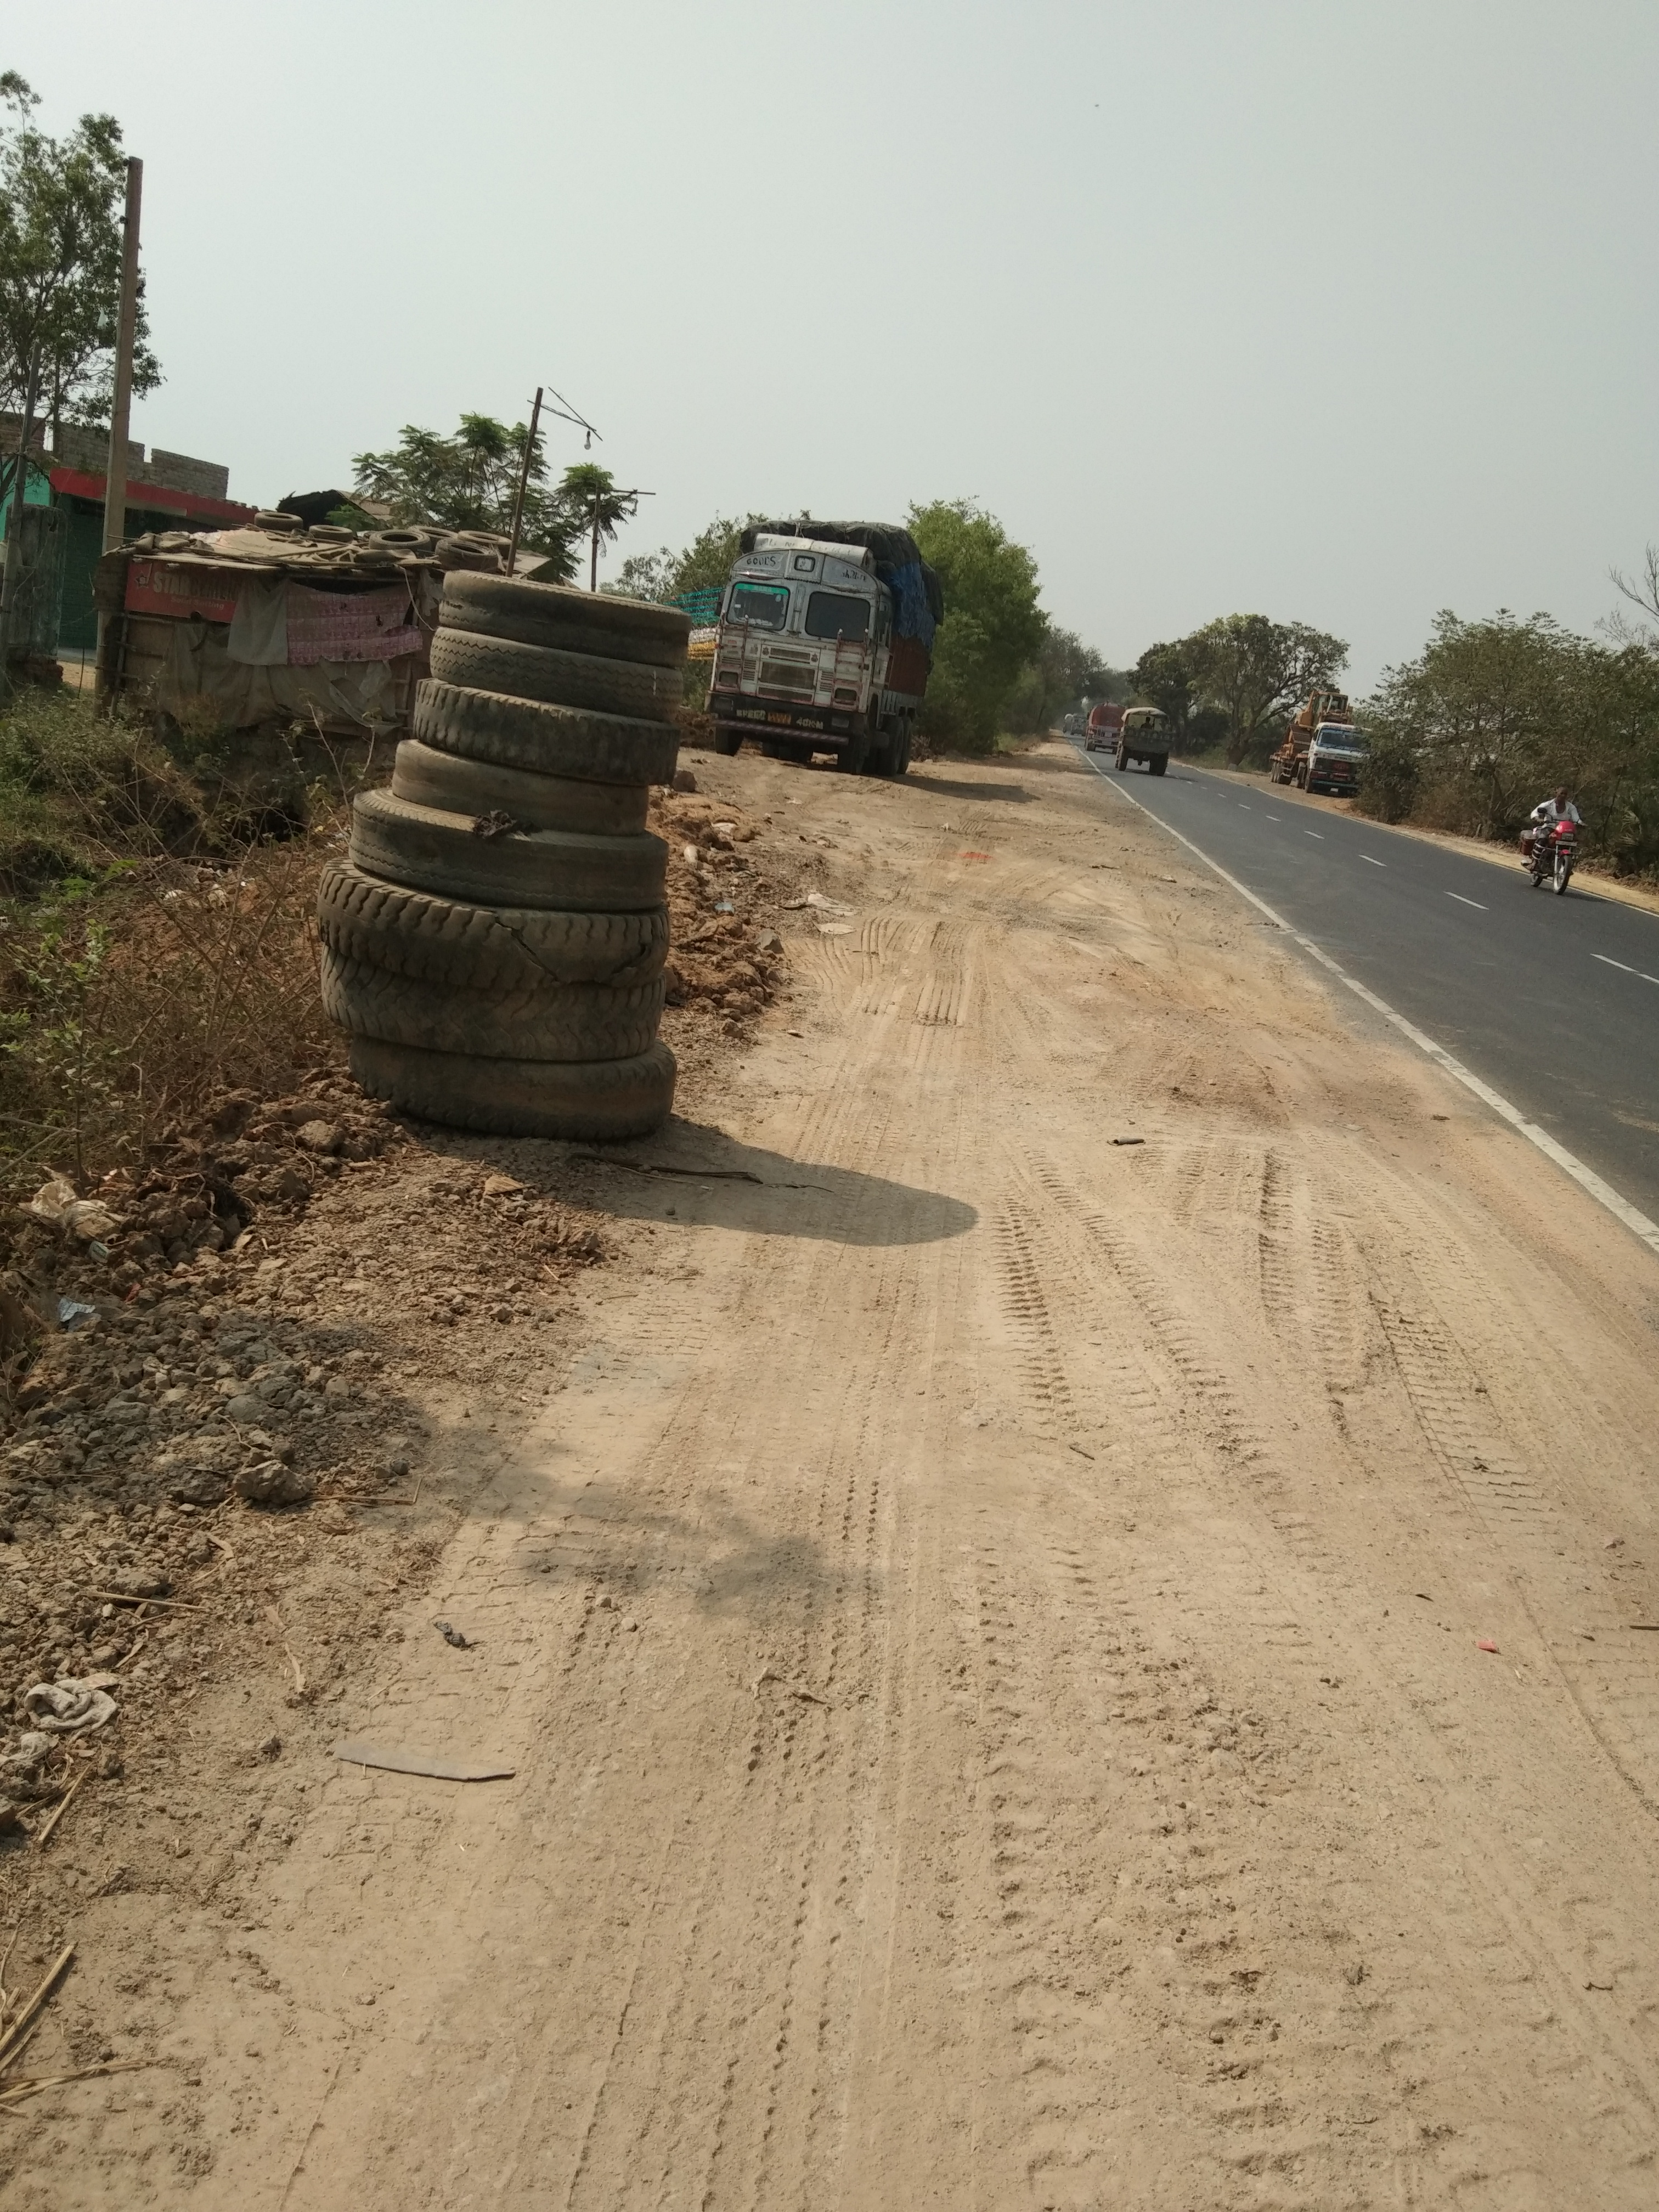tractor: (1114, 705, 1178, 779)
truck: (702, 519, 945, 779), (1269, 686, 1377, 794), (1084, 700, 1127, 754), (1070, 712, 1089, 737)
